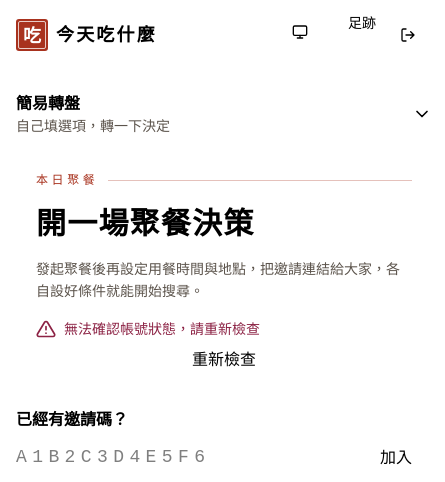
Test: HomePage guest 建房邊界 › getUser rejection 時 fail closed 並可重試
Expected: the message reads "無法確認帳號狀態，請重新檢查", [64,319,260,338]
What coordinates should you click on to do the following:
click the button "重新檢查"
I would click on:
 (224, 359)
Its box is [36,347,412,371].
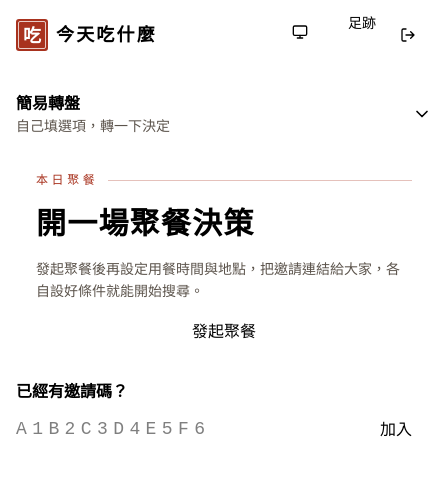
Now the button "發起聚餐" is shown, box [36,319,412,343]
Now the message "無法確認帳號狀態，請重新檢查" is gone
